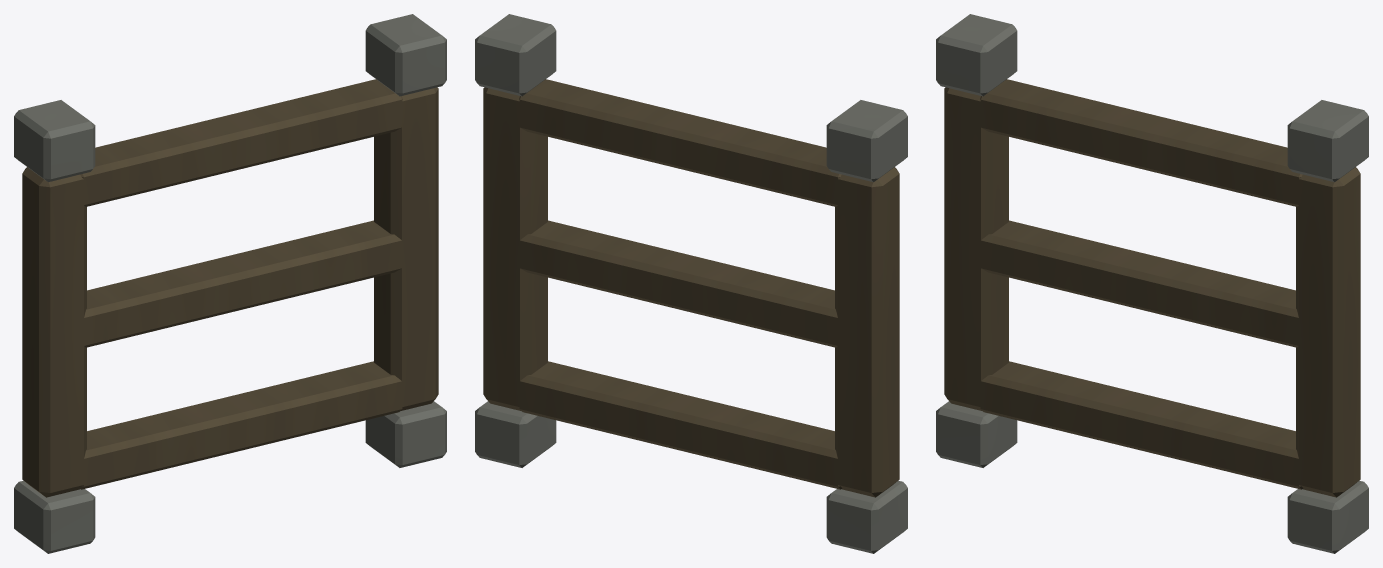
The model's file is WarrensC_WVC040_ScoutLadder100Segment_Mars_SM.fbx.
3 views of the same model, side by side, from view 1: azimuth 30°, elevation 25°; view 2: azimuth 150°, elevation 25°; view 3: azimuth 330°, elevation 25° (orthographic).
Parts seen in each view (by area): view 1: WarrensC_WVC040_ScoutLadder100Segment_Mars_SM.001; view 2: WarrensC_WVC040_ScoutLadder100Segment_Mars_SM.001; view 3: WarrensC_WVC040_ScoutLadder100Segment_Mars_SM.001.
Boxes of the visible parts, x1=… form: WarrensC_WVC040_ScoutLadder100Segment_Mars_SM.001: x1=14, y1=14, x2=446, y2=553; WarrensC_WVC040_ScoutLadder100Segment_Mars_SM.001: x1=475, y1=14, x2=907, y2=553; WarrensC_WVC040_ScoutLadder100Segment_Mars_SM.001: x1=936, y1=14, x2=1368, y2=553.
Size of the model in its own units: 100 by 15 by 100.
